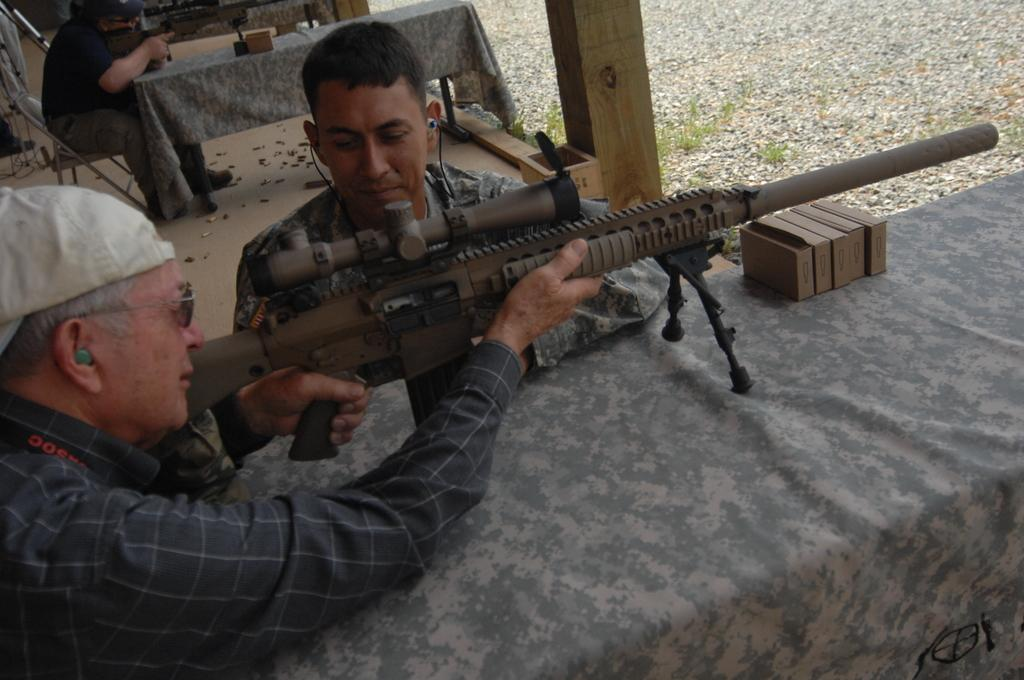Rifle: (190, 133, 996, 419)
